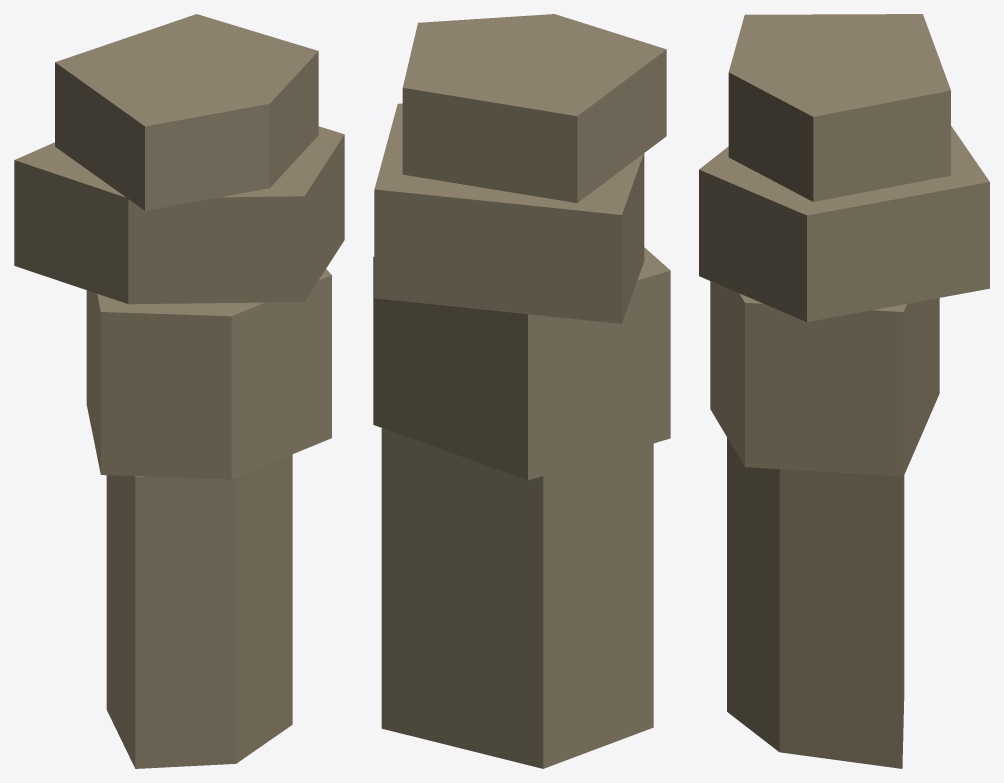
The model's file is 地形块D2.FBX.
3 views of the same model, side by side, from view 1: azimuth 30°, elevation 25°; view 2: azimuth 150°, elevation 25°; view 3: azimuth 270°, elevation 25° (orthographic). The views are drawn at different scales.
Visible parts, largest first — view 1: 地形块D2; view 2: 地形块D2; view 3: 地形块D2.
Part boxes in pixels (x1,y1,x2,y2): 地形块D2: [14, 14, 344, 768]; 地形块D2: [373, 14, 670, 768]; 地形块D2: [699, 14, 989, 768].
Bounding box in the file's own units: 1.38 × 3.13 × 1.26.
Materials: 1 (1 with a texture image).
